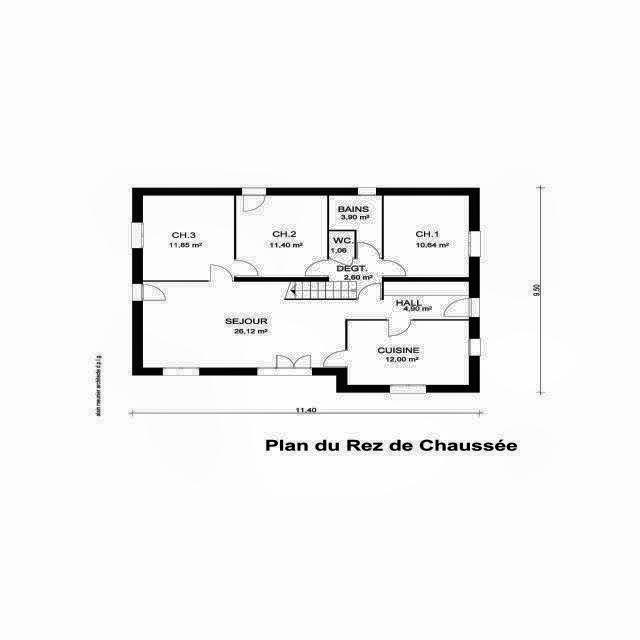room: (143, 282, 469, 368), (347, 320, 469, 385), (143, 195, 234, 281), (236, 195, 327, 277), (383, 196, 469, 277), (287, 259, 382, 299), (329, 196, 382, 258), (329, 231, 355, 258)
